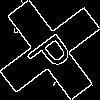P: (25, 25, 81, 79)
